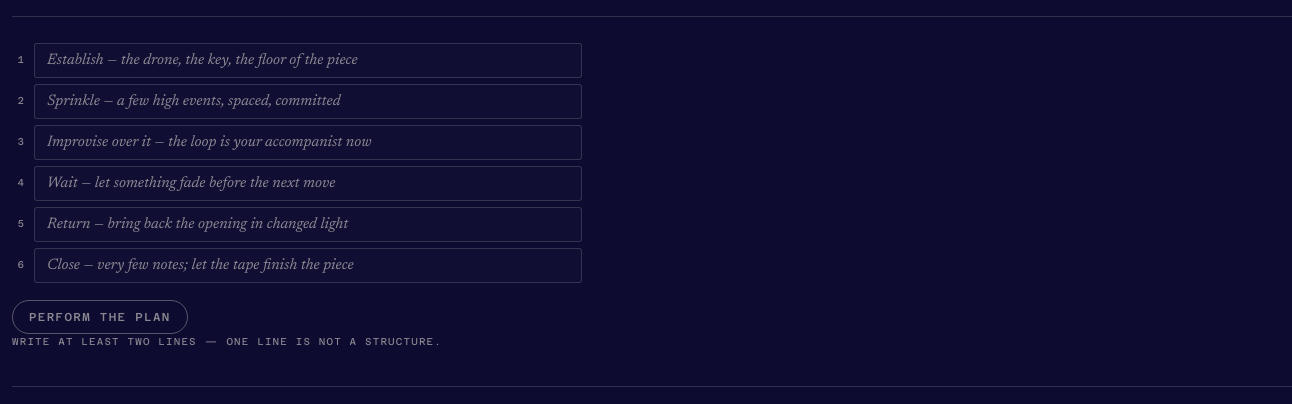
SequencePlan › opens in writing mode with six form hints and refuses a one-line plan
Check: the button "Perform the plan" is disabled, box [12,300,188,334]
Type "drone, low register" into the field with placeholder "Establish — the drone, the key, the floor of the piece" at (308, 60), box [34,43,582,78]
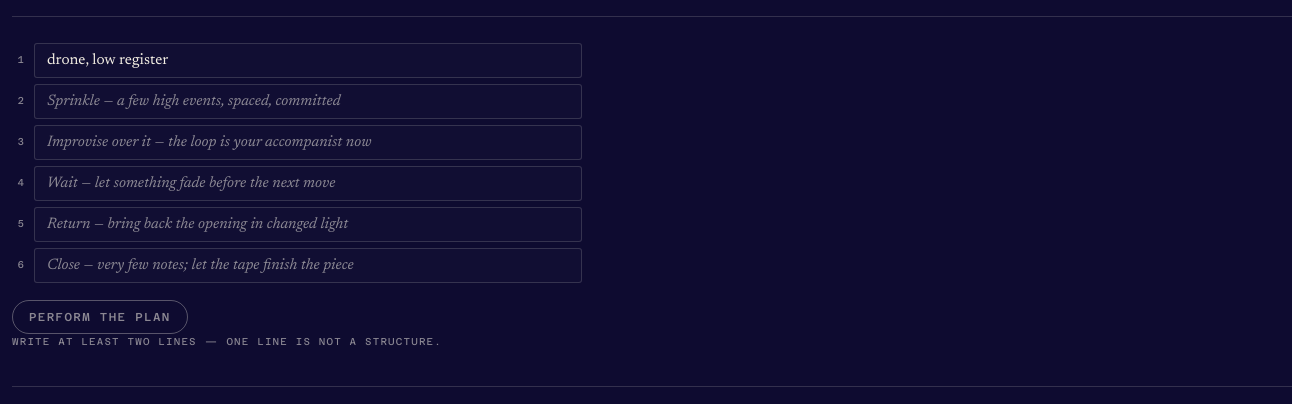
Check: the text "Write at least two lines — one line is not a structure." is shown, box [12,336,442,347]
Check: the button "Perform the plan" is disabled, box [12,300,188,334]
Type "wait for the fade" into the field with placeholder "Sprinkle — a few high events, spaced, committed" at (308, 102), box [34,84,582,119]
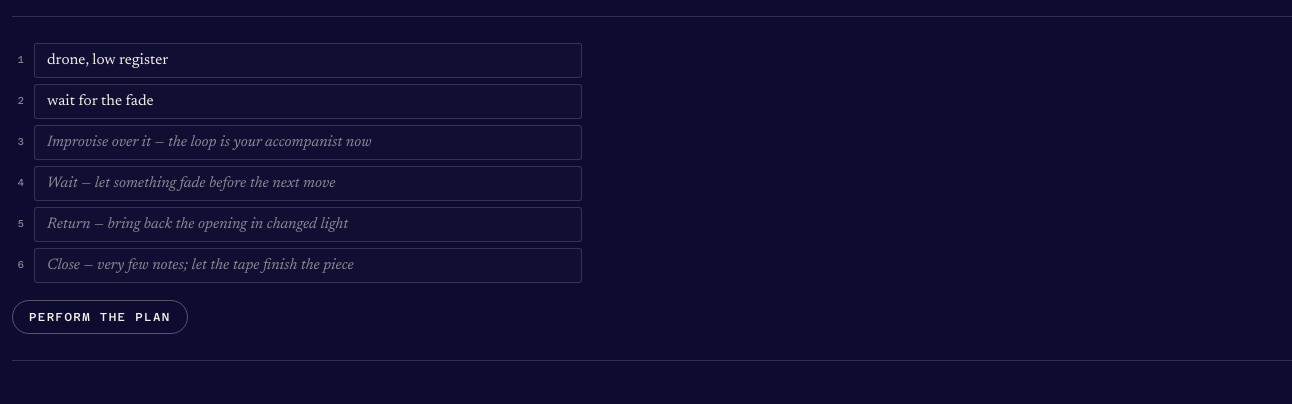
Check: the button "Perform the plan" is enabled, box [12,300,188,334]
